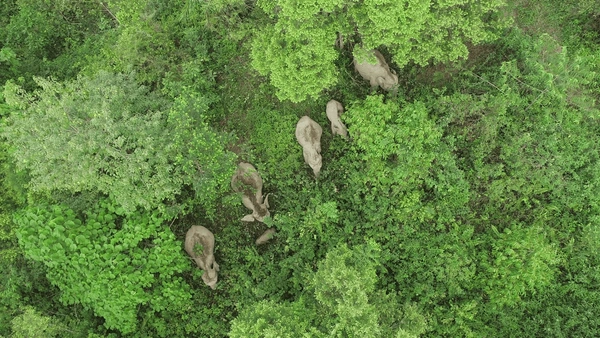Adult Elephant: (214, 156, 291, 252), (338, 28, 407, 95), (175, 219, 223, 295), (288, 112, 326, 179)
Baby Elephant: (325, 98, 355, 139)
